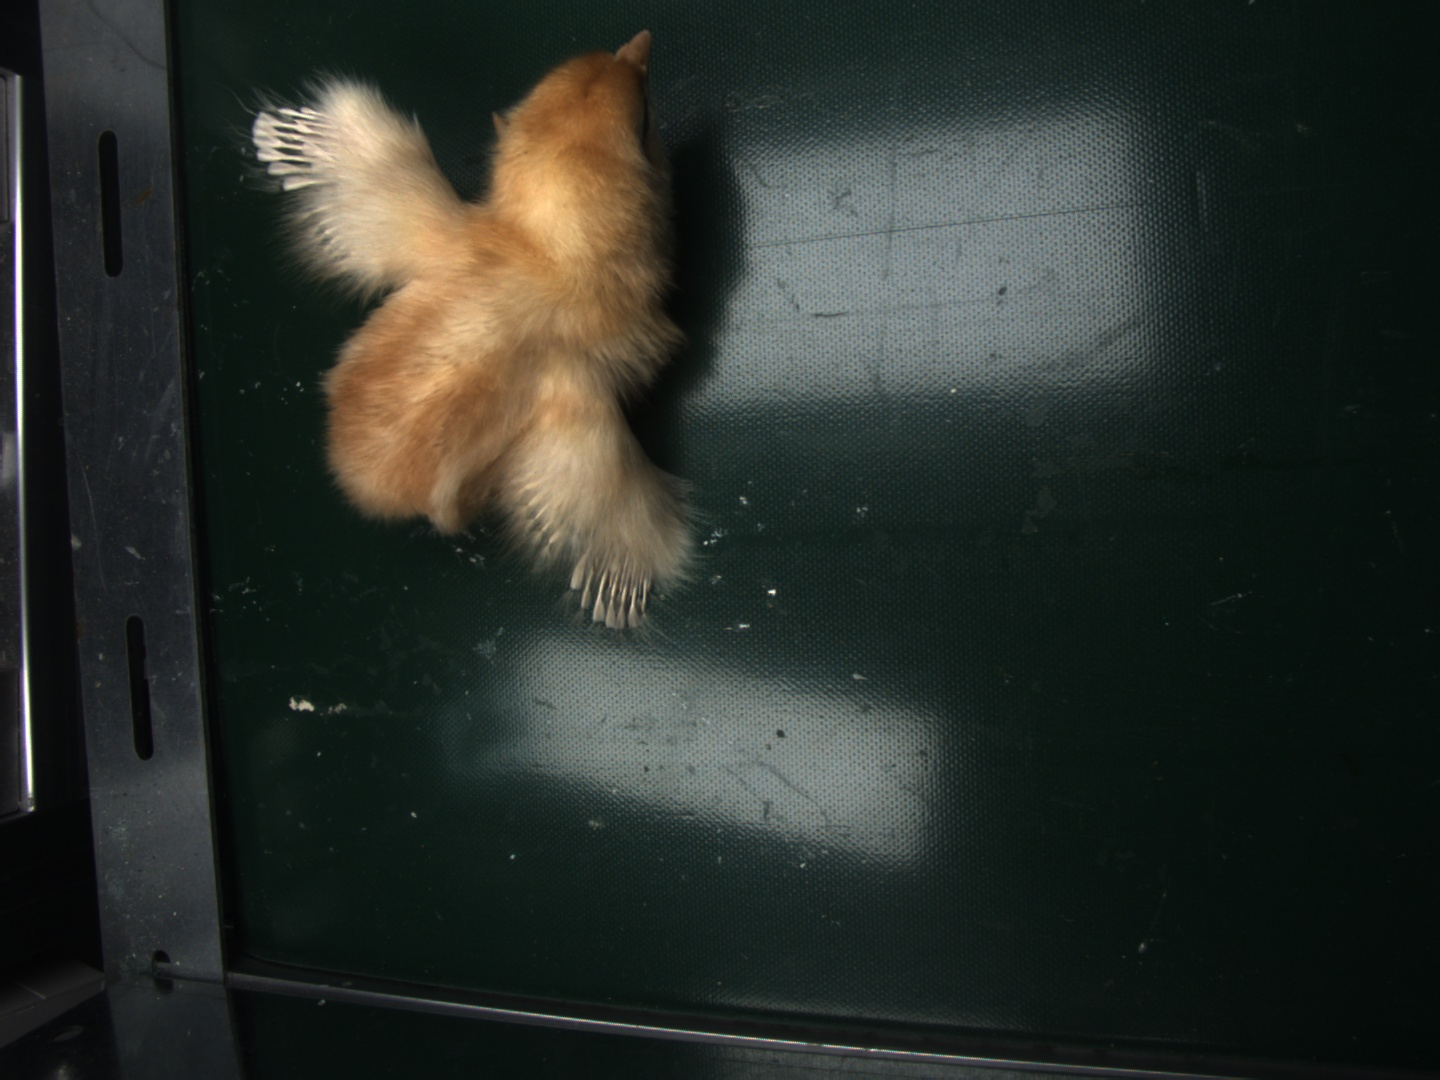female: (249, 104, 336, 188), (577, 545, 652, 628)
